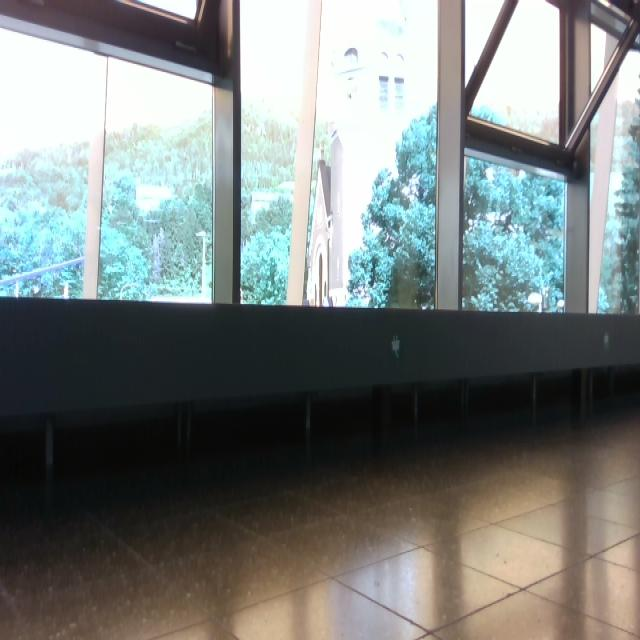light bulb: (333, 45, 406, 112), (344, 46, 360, 100), (393, 53, 406, 110), (378, 50, 390, 109), (391, 334, 401, 357), (528, 292, 543, 305), (485, 167, 495, 183)
pillar: (285, 1, 323, 305)
tiled floor: (2, 401, 639, 638)
window: (1, 1, 640, 317)
